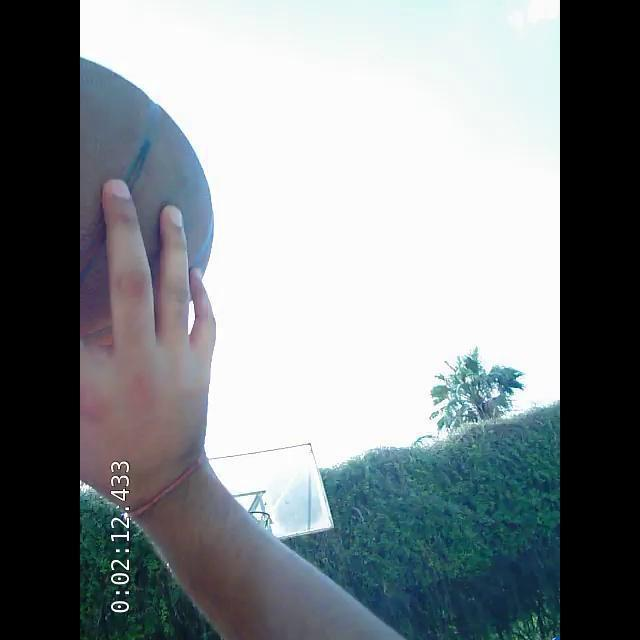ball: (78, 56, 214, 347)
